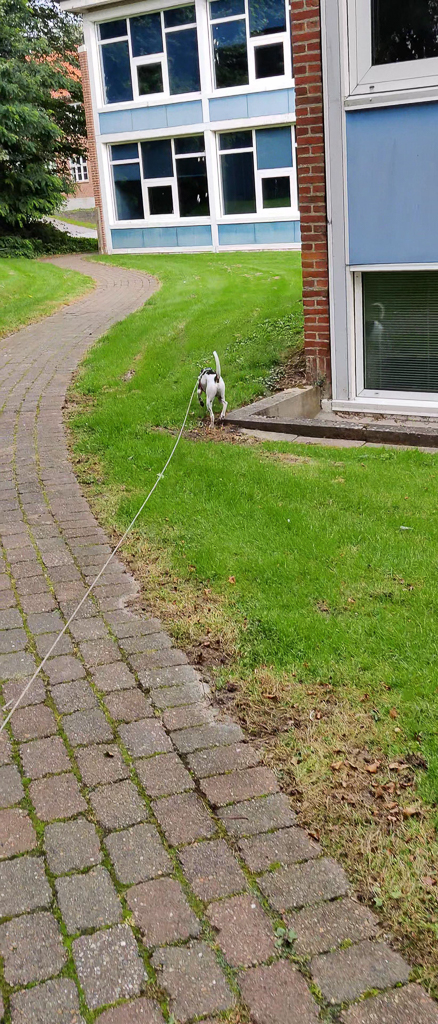Dog: (182, 343, 243, 438)
